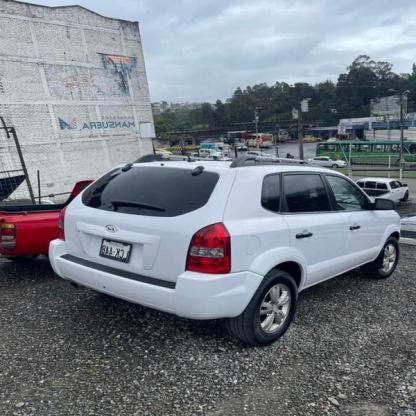Placa: (96, 236, 134, 261)
